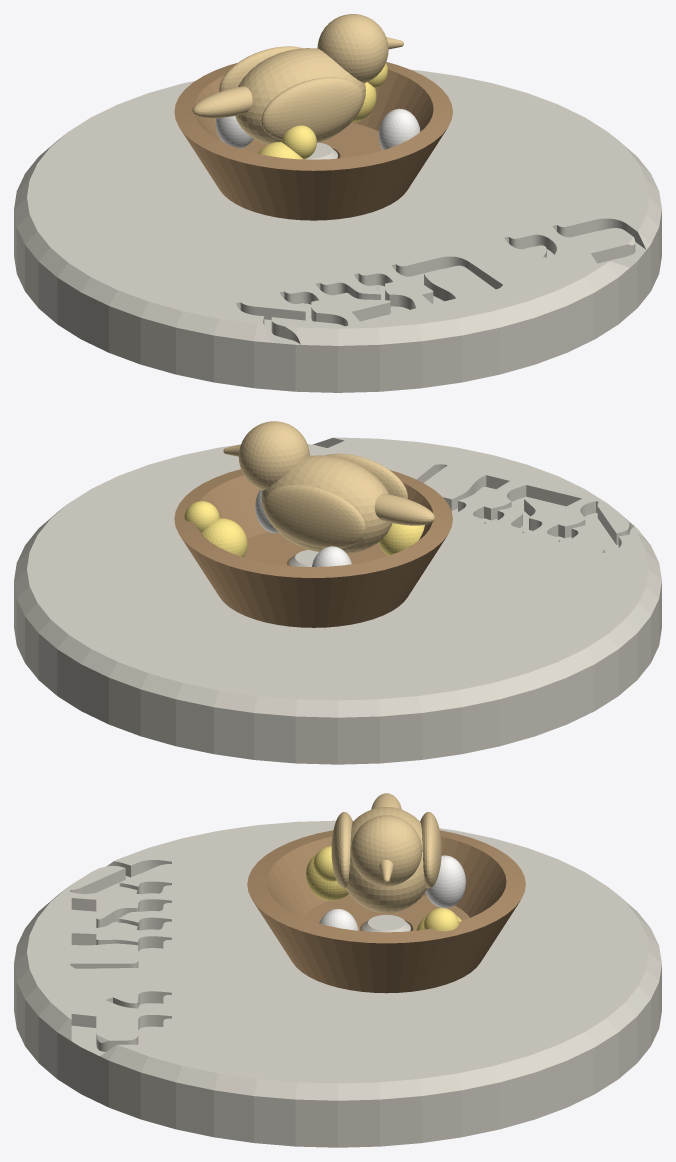
File: ki-teitzei.glb
The picture shows the model from 3 angles, top to bottom: view 1: azimuth 30°, elevation 25°; view 2: azimuth 150°, elevation 25°; view 3: azimuth 270°, elevation 25°; orthographic projection.
Visible parts, largest first — view 1: stage, nest, mother, chick-2, egg-1, egg-2, chick-1; view 2: stage, nest, mother, chick-1, chick-2, egg-2; view 3: stage, nest, mother, egg-2, chick-2, chick-1, egg-1.
Boxes of the visible parts, bbox=[...] form: stage: bbox=[14, 69, 661, 392]; nest: bbox=[174, 62, 452, 220]; mother: bbox=[192, 14, 403, 144]; chick-2: bbox=[258, 125, 316, 159]; egg-1: bbox=[378, 108, 420, 150]; egg-2: bbox=[215, 116, 253, 148]; chick-1: bbox=[352, 63, 387, 122]; stage: bbox=[14, 437, 661, 764]; nest: bbox=[174, 469, 452, 627]; mother: bbox=[223, 421, 434, 553]; chick-1: bbox=[184, 501, 247, 557]; chick-2: bbox=[378, 523, 424, 555]; egg-2: bbox=[312, 546, 351, 566]; stage: bbox=[14, 820, 661, 1147]; nest: bbox=[247, 830, 525, 993]; mother: bbox=[331, 793, 441, 913]; egg-2: bbox=[425, 855, 465, 908]; chick-2: bbox=[306, 846, 348, 900]; chick-1: bbox=[416, 908, 461, 931]; egg-1: bbox=[319, 909, 358, 930].
Bounding box in the file's own units: 40 × 14.4 × 40.
